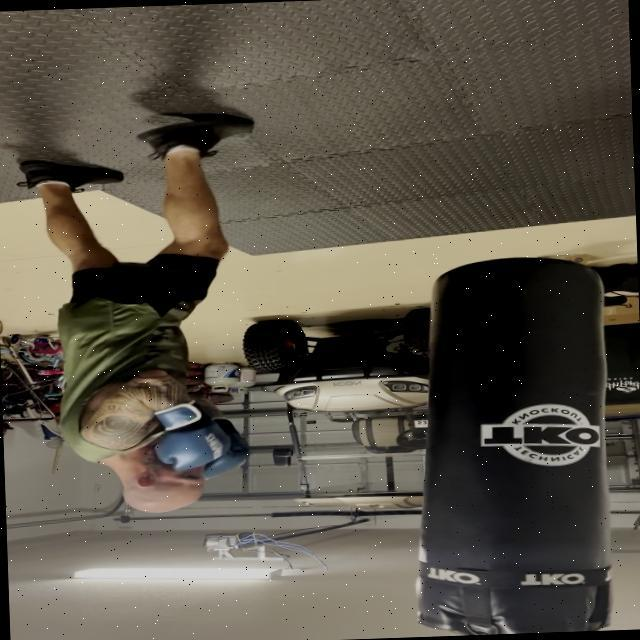uppercut: (52, 322, 300, 530)
